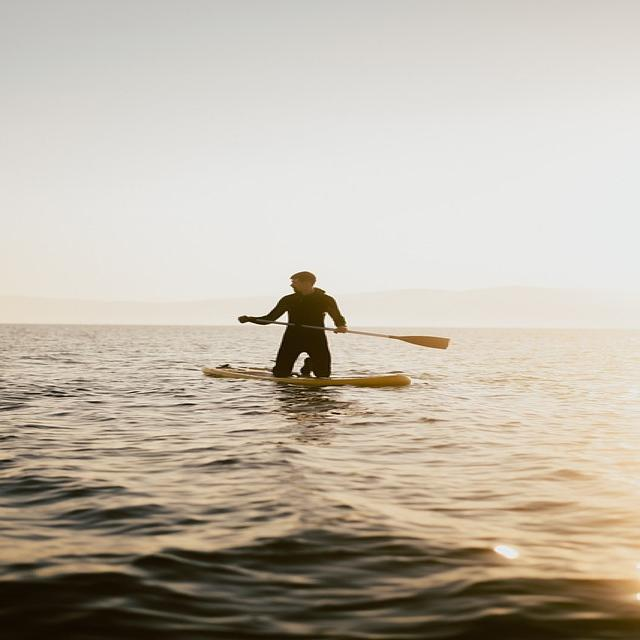Real human 2: (232, 262, 372, 389)
